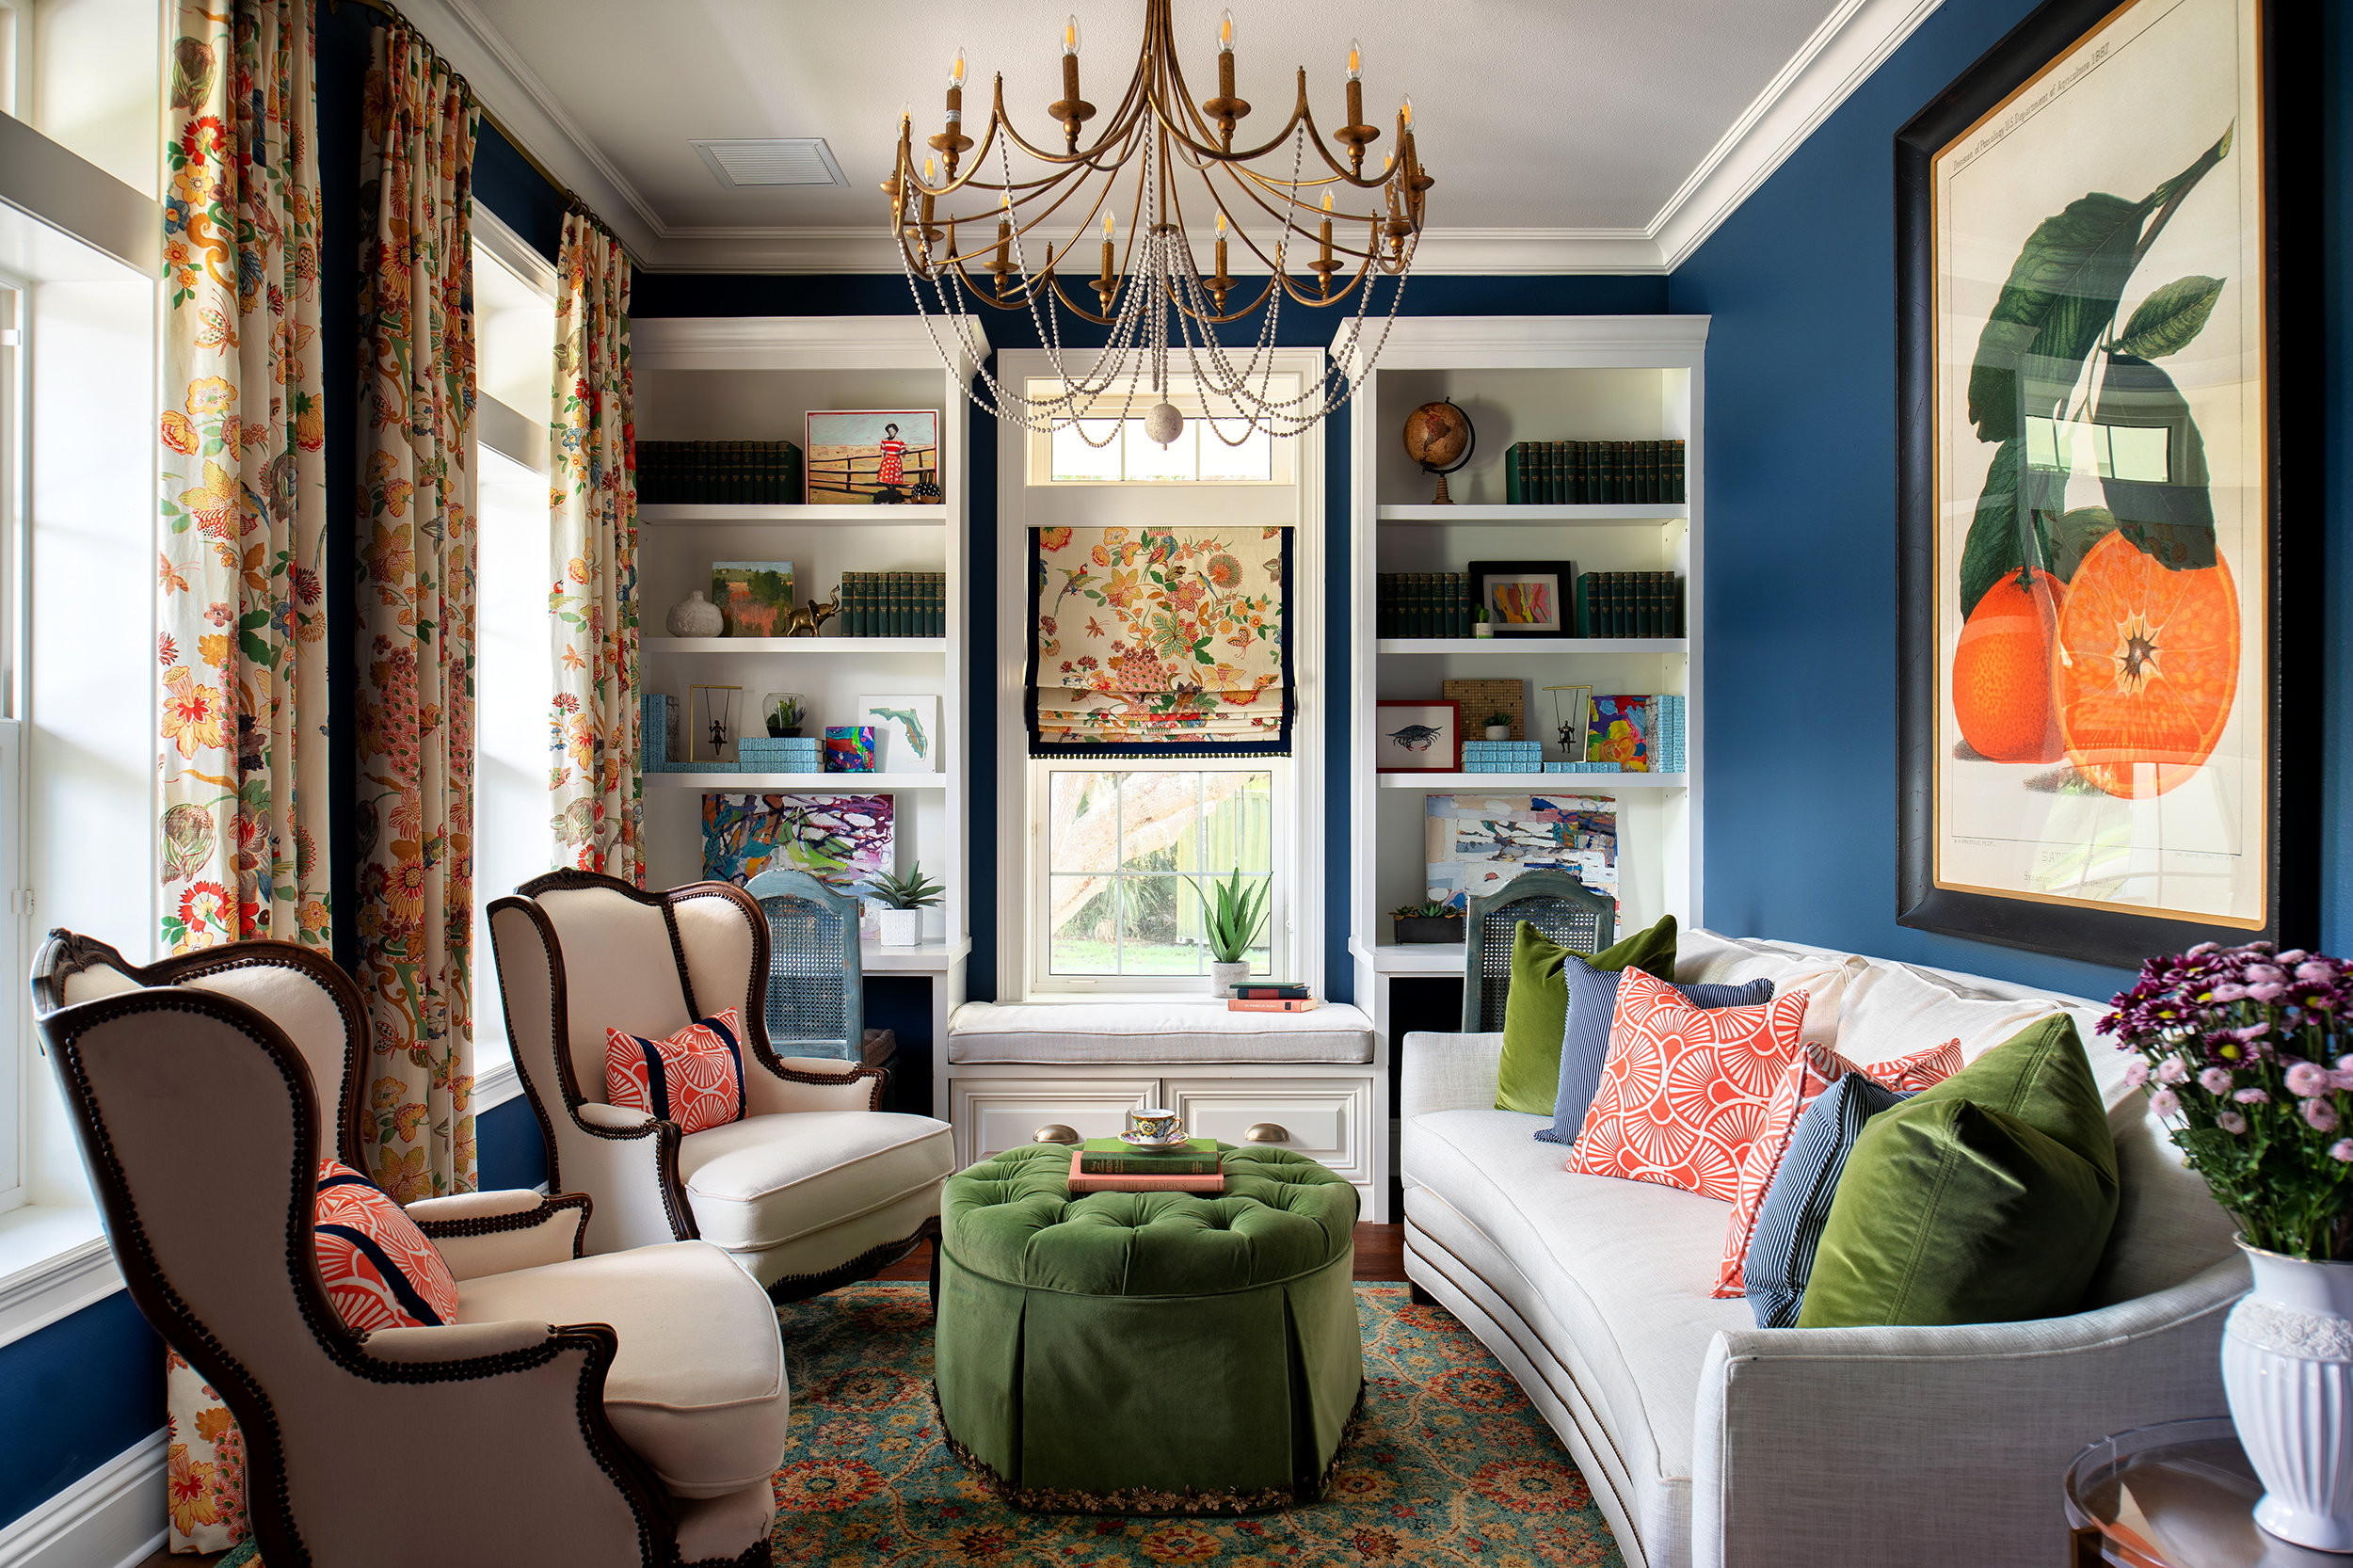biru: (738, 733, 820, 773), (1457, 738, 1543, 777)
hijau: (939, 1141, 1379, 1496), (1825, 1036, 2098, 1325), (1501, 922, 1557, 1115)
putih: (455, 1239, 772, 1421), (2224, 1237, 2353, 1550), (696, 1120, 934, 1235)
